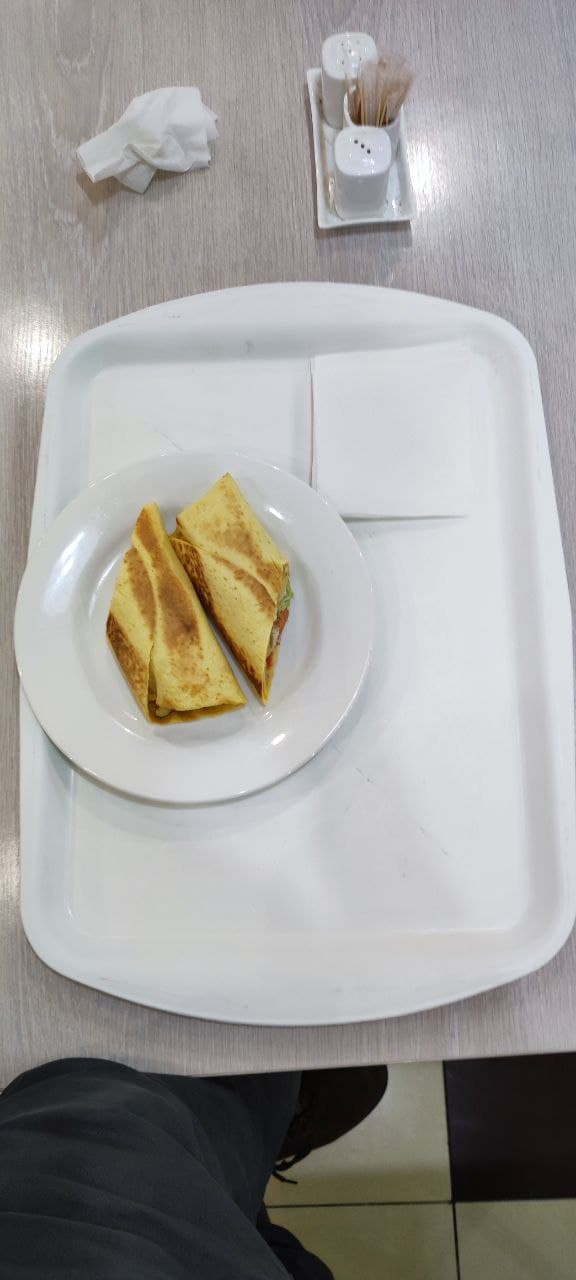Кесадилья с курицей: (103, 474, 293, 728)
Поднос: (19, 279, 576, 1033)
Салфетки: (309, 353, 469, 517)
Тарелка: (6, 445, 374, 808)
